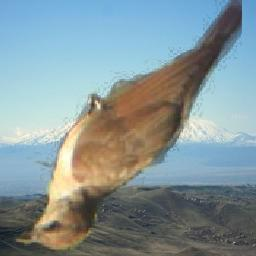Cuckoo: (14, 1, 243, 252)
